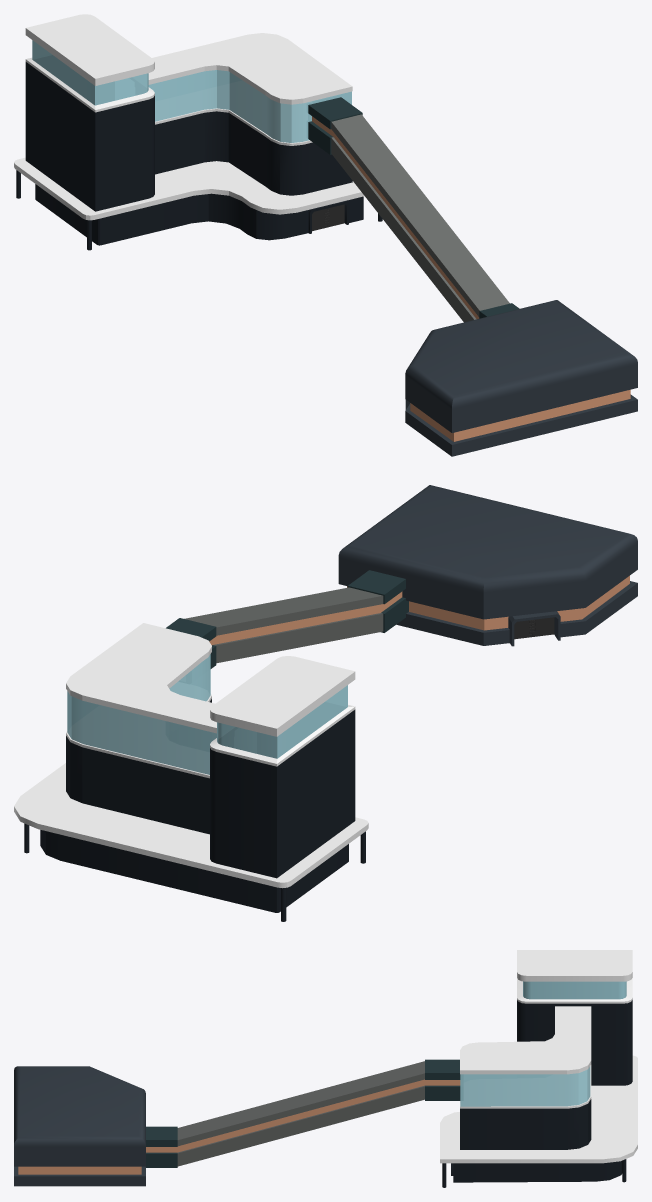
Rendered from Elevator.fbx.
The picture shows the model from 3 angles, top to bottom: view 1: azimuth 30°, elevation 25°; view 2: azimuth 150°, elevation 25°; view 3: azimuth 270°, elevation 25°; orthographic projection. The views are drawn at different scales.
Parts seen in each view (by area): view 1: Elevator Main Building, Storage Building, Elevator Main Building Inner Mesh, Vent, Vent Inner Mesh, Storage Building Inner Mesh; view 2: Elevator Main Building, Storage Building, Elevator Main Building Inner Mesh, Vent, Vent Inner Mesh, Storage Building Inner Mesh; view 3: Elevator Main Building, Storage Building, Vent, Elevator Main Building Inner Mesh, Vent Inner Mesh.
Boxes of the visible parts, x1,y1,x2,y2 form: Elevator Main Building: (14, 14, 382, 250); Storage Building: (405, 300, 637, 456); Elevator Main Building Inner Mesh: (14, 14, 362, 220); Vent: (308, 97, 519, 322); Vent Inner Mesh: (308, 114, 506, 321); Storage Building Inner Mesh: (405, 392, 630, 441); Elevator Main Building: (14, 623, 368, 921); Storage Building: (338, 485, 637, 646); Elevator Main Building Inner Mesh: (14, 624, 367, 887); Vent: (166, 570, 408, 668); Vent Inner Mesh: (187, 588, 407, 662); Storage Building Inner Mesh: (347, 578, 629, 645); Elevator Main Building: (440, 950, 637, 1187); Storage Building: (14, 1066, 145, 1186); Vent: (146, 1059, 460, 1167); Elevator Main Building Inner Mesh: (440, 950, 637, 1163); Vent Inner Mesh: (146, 1061, 459, 1167).
Size of the model in its own units: 11199 by 7019 by 28421.
